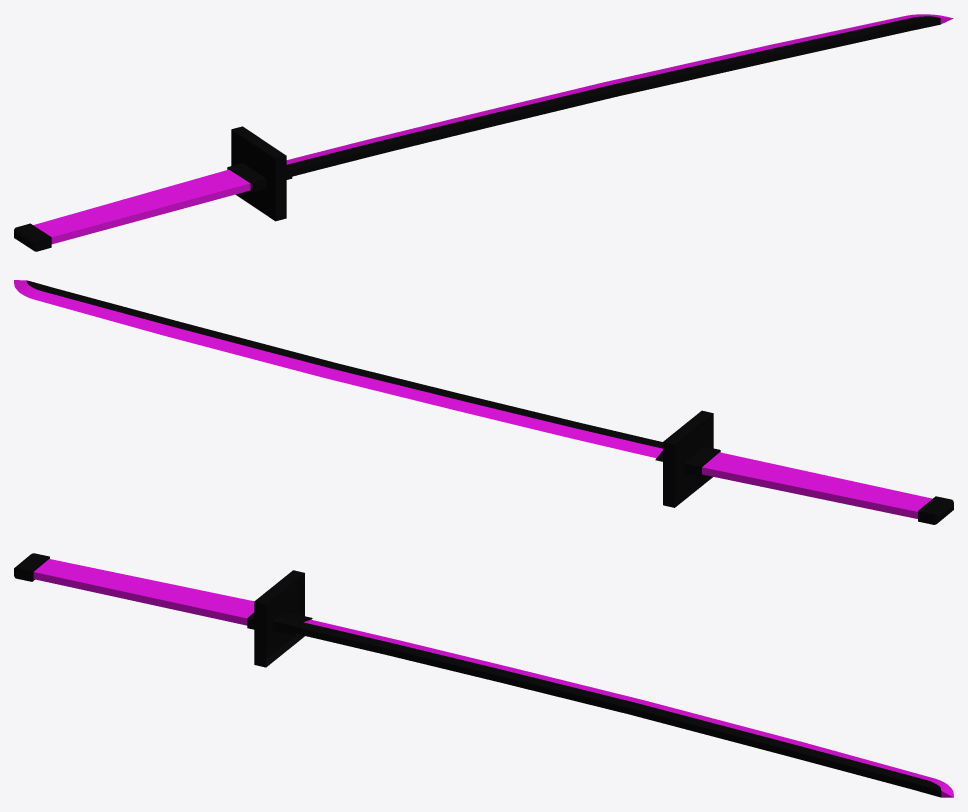
Rendered from Black-Neon-Purple.fbx.
3 renders of one model, top to bottom at view 1: azimuth 30°, elevation 25°; view 2: azimuth 150°, elevation 25°; view 3: azimuth 330°, elevation 25°, orthographic.
Visible parts, largest first — view 1: Cube; view 2: Cube; view 3: Cube.
Part boxes in pixels (x1,y1,x2,y2): Cube: (14,14,953,251); Cube: (14,280,953,524); Cube: (14,553,953,797).
Size of the model in its own units: 139 by 8.94 by 10.73.
